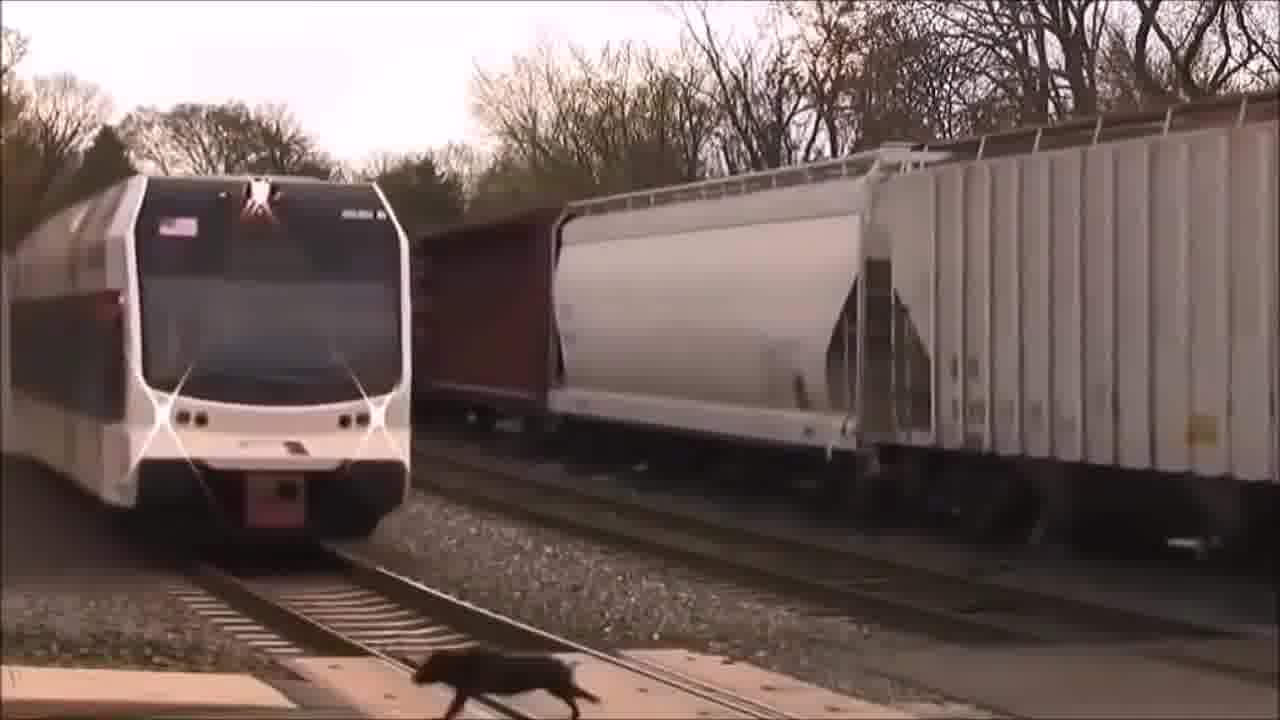crossing railway track: (190, 565, 821, 720)
